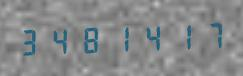eight: (77, 21, 106, 56)
four: (47, 22, 76, 57), (137, 19, 166, 54)
one: (107, 20, 136, 55), (167, 18, 196, 53)
seven: (197, 17, 226, 52)
three: (17, 23, 46, 58)
